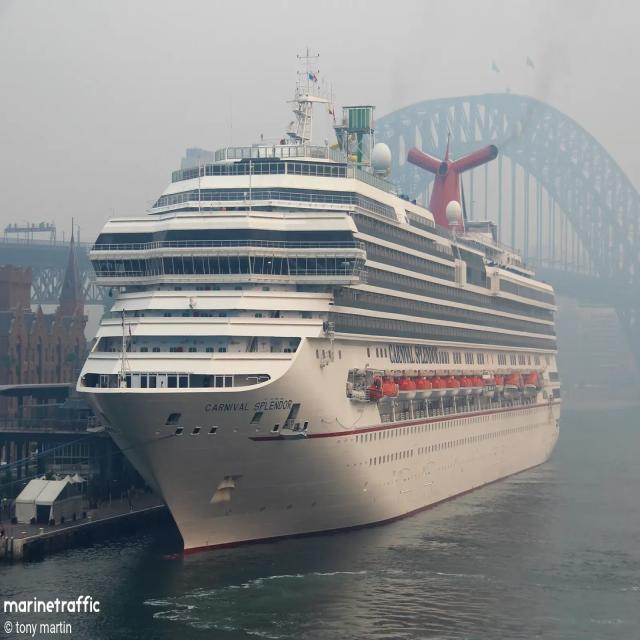Cruise: (76, 55, 560, 550)
